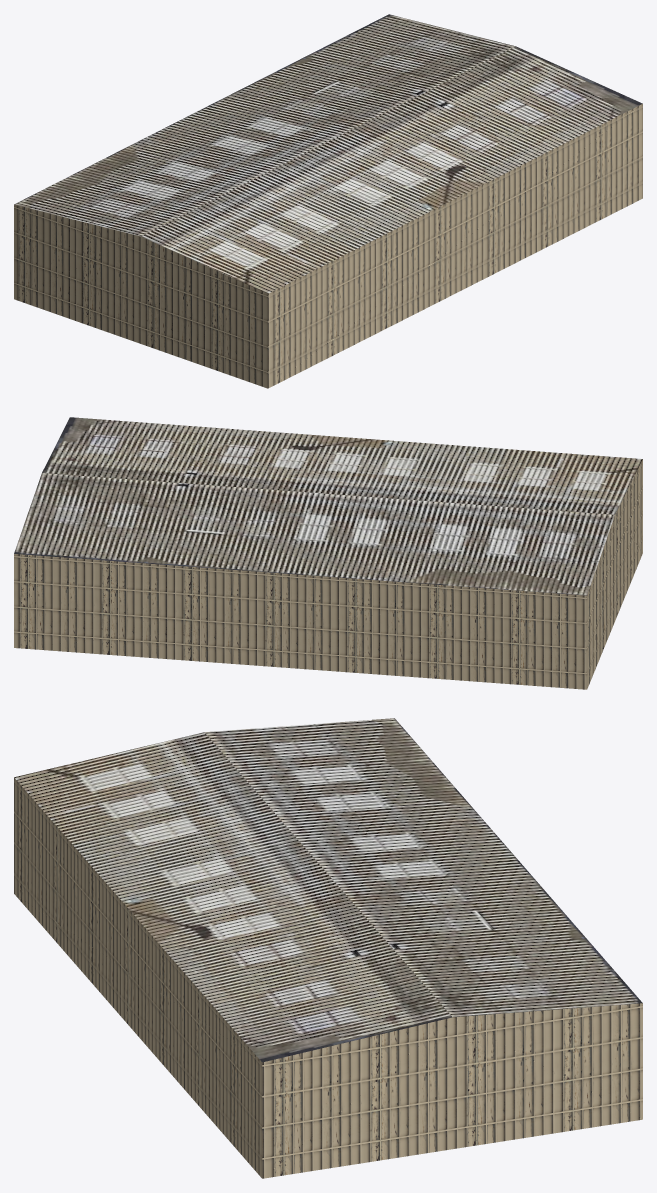
File: hangarBehindRamp2.dae
3 renders of one model, top to bottom at view 1: azimuth 30°, elevation 25°; view 2: azimuth 150°, elevation 25°; view 3: azimuth 270°, elevation 25°, orthographic. The views are drawn at different scales.
Parts seen in each view (by area): view 1: SketchUp (×2); view 2: SketchUp (×2); view 3: SketchUp (×2).
Boxes of the visible parts, x1,y1,x2,y2 form: SketchUp (×2): [14, 14, 642, 388]; SketchUp (×2): [14, 417, 642, 689]; SketchUp (×2): [14, 718, 642, 1178].
Bounding box in the file's own units: 937 × 723 × 167.
Materials: 3 (2 with a texture image).
